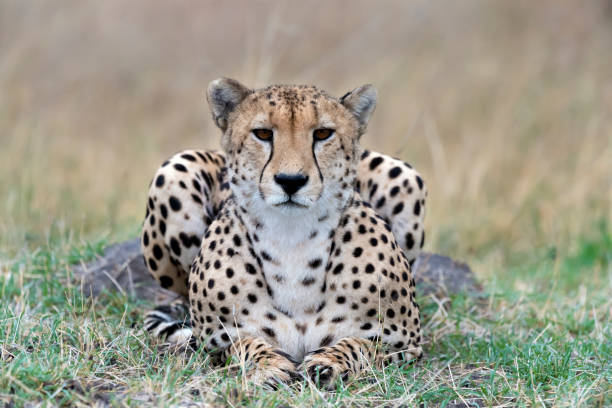cheetah: (194, 67, 413, 241)
